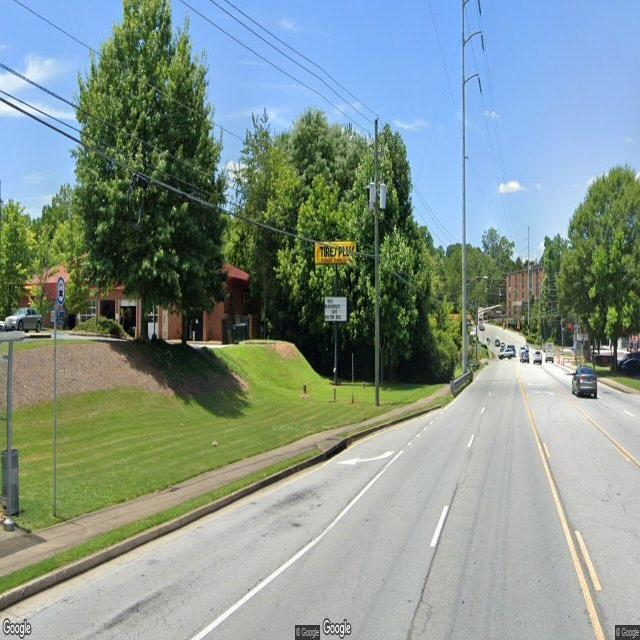shelter: (0, 332, 30, 532)
trash_can: (1, 447, 20, 518)
